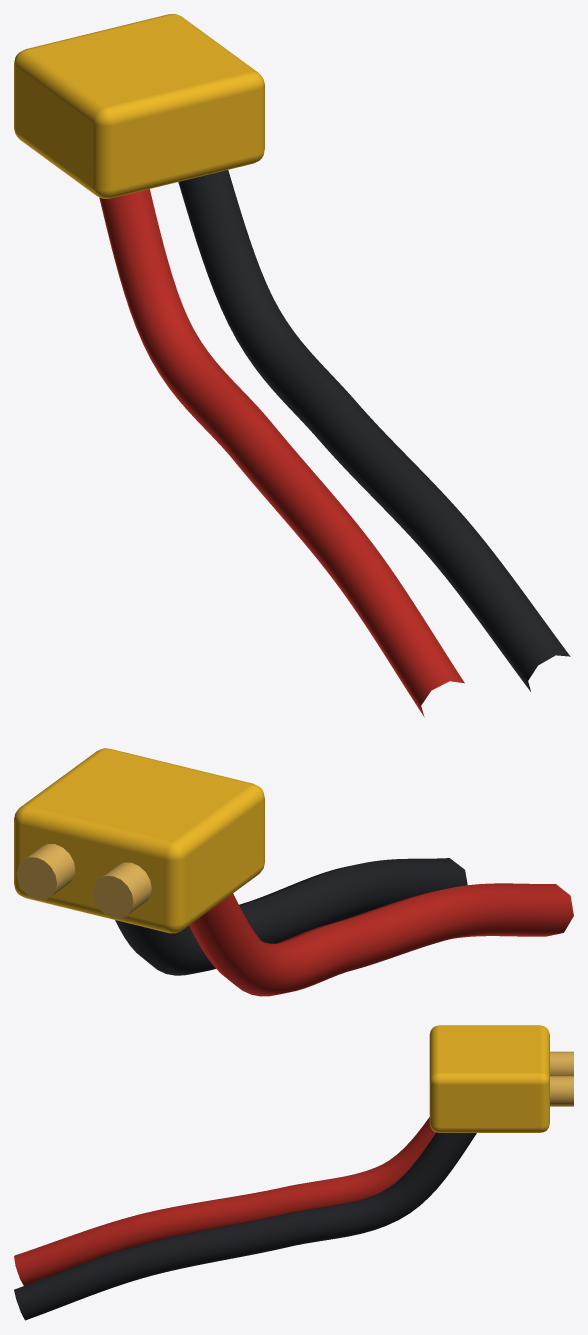
File: lead.glb
3 views of the same model, one above another, from view 1: azimuth 30°, elevation 25°; view 2: azimuth 150°, elevation 25°; view 3: azimuth 270°, elevation 25° (orthographic). The views are drawn at different scales.
Parts seen in each view (by area): view 1: XT60 male, Power lead -, Power lead +; view 2: XT60 male, Power lead +, Power lead -, XT60 pin (×2); view 3: Power lead -, XT60 male, Power lead +, XT60 pin (×2).
Boxes of the visible parts, x1=… form: XT60 male: x1=14, y1=14, x2=264, y2=198; Power lead -: x1=178, y1=170, x2=570, y2=691; Power lead +: x1=99, y1=189, x2=464, y2=717; XT60 male: x1=14, y1=748, x2=264, y2=933; Power lead +: x1=189, y1=883, x2=573, y2=996; Power lead -: x1=115, y1=858, x2=467, y2=975; XT60 pin (×2): x1=16, y1=844, x2=151, y2=918; Power lead -: x1=14, y1=1132, x2=476, y2=1320; XT60 male: x1=429, y1=1025, x2=549, y2=1132; Power lead +: x1=14, y1=1117, x2=435, y2=1285; XT60 pin (×2): x1=550, y1=1051, x2=573, y2=1106.
Size of the model in its own units: 0.016 by 0.0349 by 0.0698.
